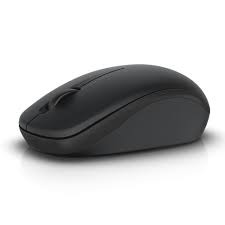mouse: (17, 65, 210, 159)
